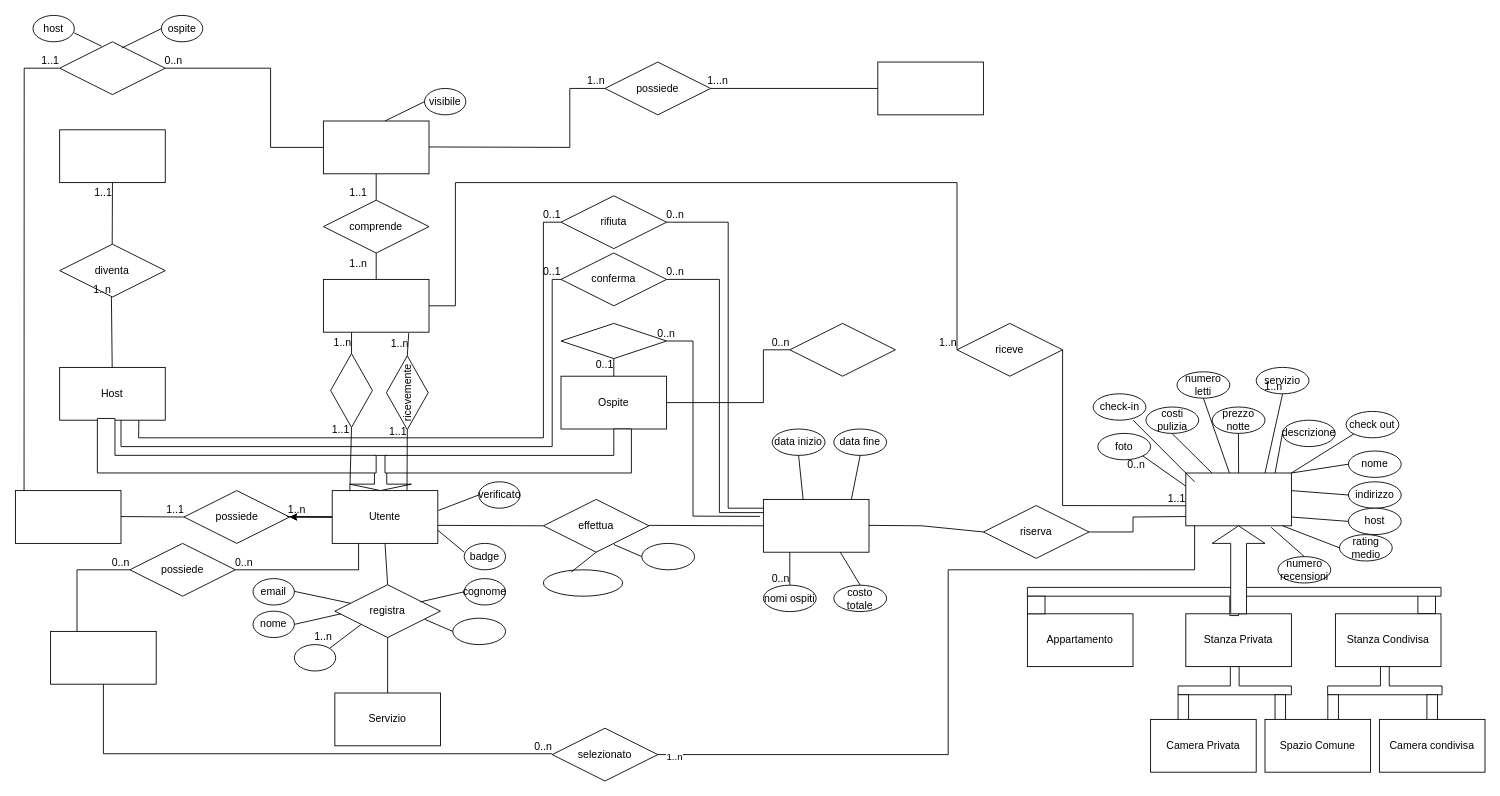
Image size: 1500x796. Some labels were removed from this diagram. The box of each missing label's shape, as (x1, y1, x2, y2) in pixels:
Alloggio: (1185, 472, 1291, 526)
cancella: (560, 323, 667, 359)
contiene: (59, 41, 165, 95)
mandante: (330, 353, 372, 427)
metodo pagamento: (543, 569, 623, 596)
numero: (293, 644, 336, 671)
pagamento: (641, 543, 695, 570)
password: (452, 617, 506, 645)
Preferiti: (50, 631, 156, 684)
Prenotazione: (763, 499, 869, 552)
Profilo: (15, 490, 121, 543)
Punteggio: (877, 61, 983, 115)
Recensione: (323, 120, 429, 174)
soggiorna: (789, 323, 895, 376)
Superhost: (59, 129, 165, 183)
Testo: (323, 279, 429, 332)
